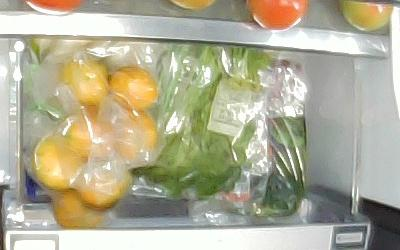tangerine_vinyl: (33, 135, 84, 190), (69, 105, 116, 159), (59, 58, 109, 104), (77, 168, 131, 207), (110, 66, 157, 110), (116, 111, 157, 161), (50, 189, 100, 229)
